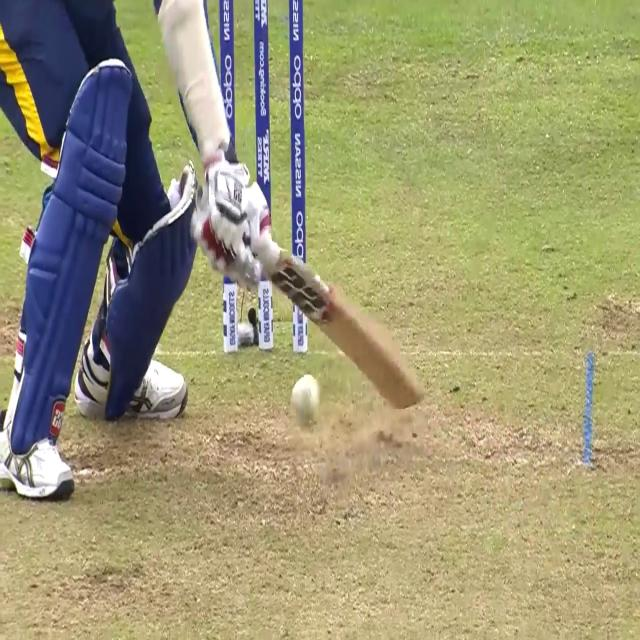ball: (287, 374, 323, 427)
